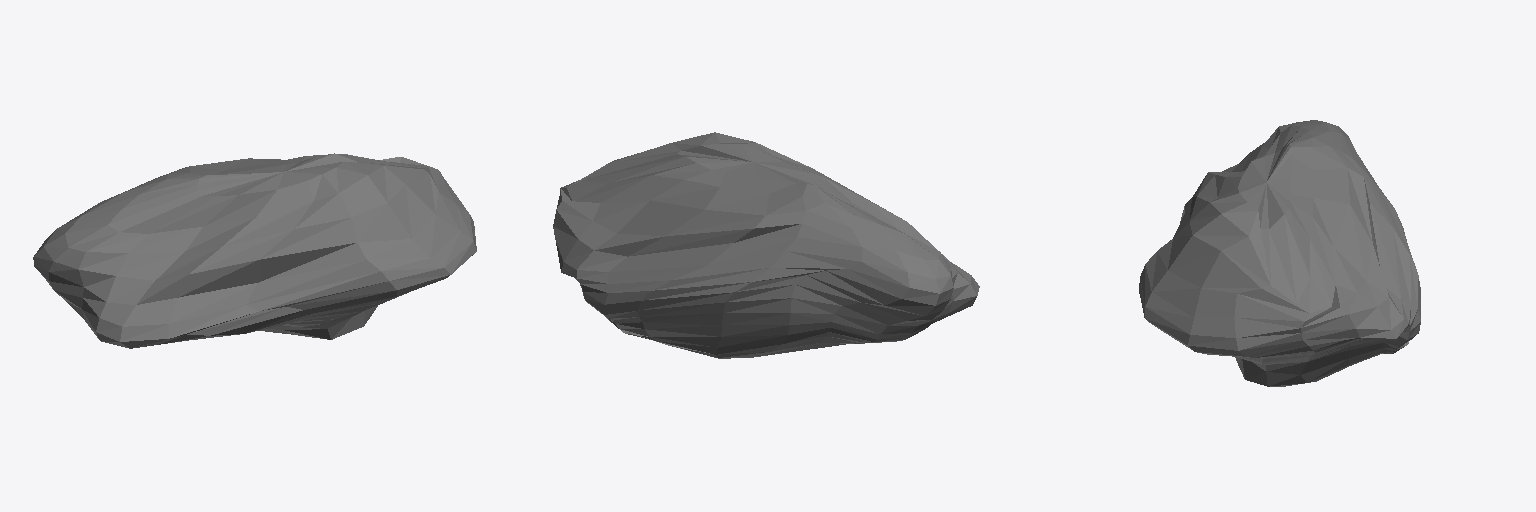
File: Rock2.obj
3 views of the same model, side by side, from view 1: azimuth 30°, elevation 25°; view 2: azimuth 150°, elevation 25°; view 3: azimuth 270°, elevation 25° (orthographic).
Visible parts, largest first — view 1: pSphere12; view 2: pSphere12; view 3: pSphere12.
Boxes of the visible parts, x1,y1,x2,y2 form: pSphere12: [33, 153, 476, 348]; pSphere12: [553, 132, 979, 358]; pSphere12: [1139, 120, 1420, 386].
Size of the model in its own units: 4.27 by 1.81 by 2.65.